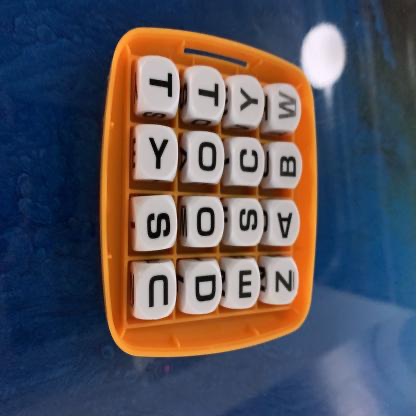a: (272, 201, 301, 247)
b: (273, 143, 304, 189)
c: (232, 138, 266, 186)
d: (187, 263, 223, 315)
e: (230, 260, 262, 310)
o: (191, 132, 225, 184), (190, 198, 225, 248)
s: (137, 196, 178, 251), (234, 199, 265, 248)
t: (141, 56, 181, 112), (190, 66, 227, 119)
u: (137, 264, 177, 320)
w: (272, 83, 302, 132)
y: (138, 125, 179, 180), (234, 75, 266, 125)
z: (270, 258, 300, 306)
